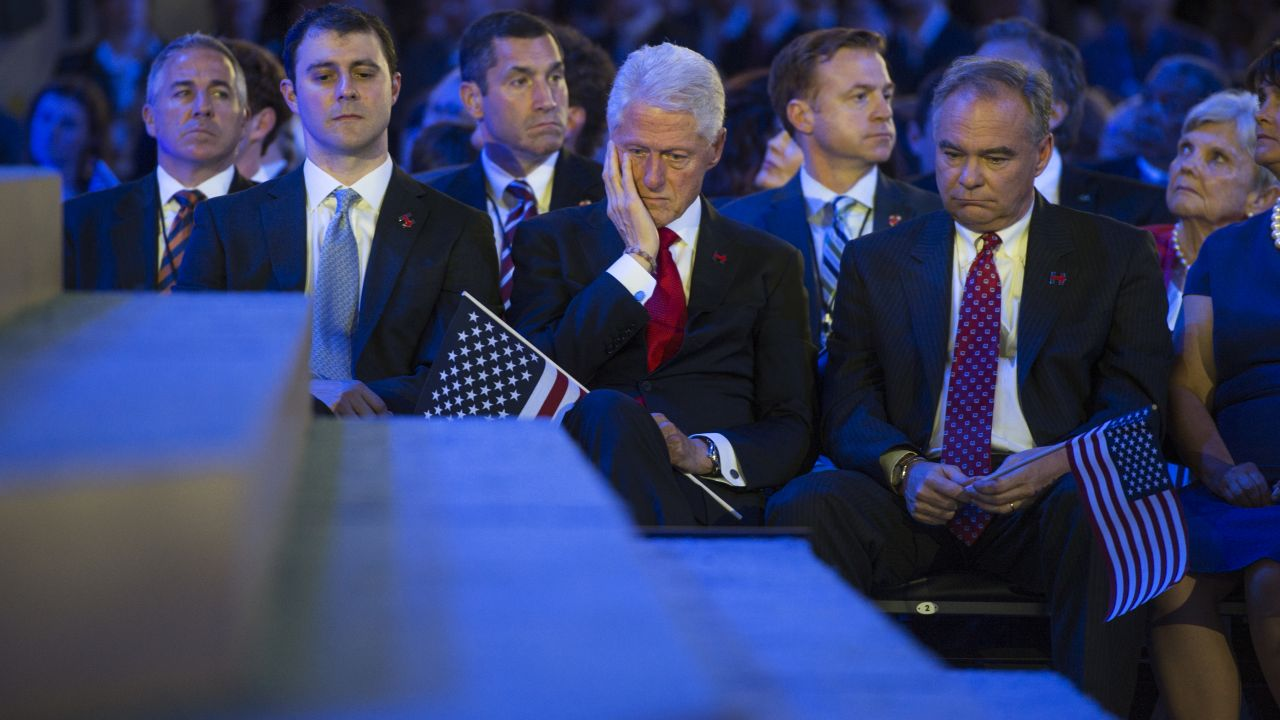sad: (288, 27, 397, 156), (131, 48, 249, 163), (925, 118, 1038, 235), (606, 99, 711, 220)
